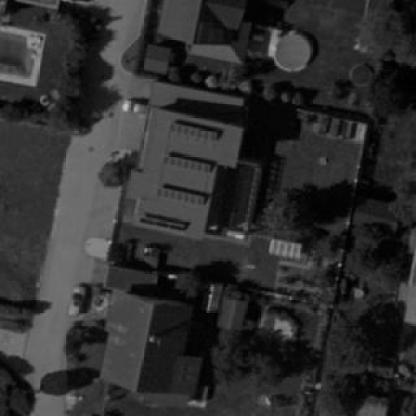solar-pv-panel: (169, 122, 216, 141), (155, 187, 204, 205), (162, 155, 209, 173), (140, 216, 183, 233), (196, 21, 225, 44)
